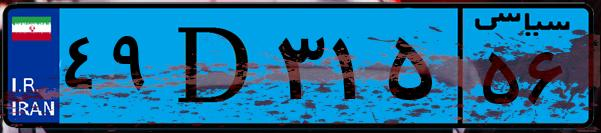1: (330, 28, 385, 110)
3: (270, 28, 330, 110)
4: (57, 26, 110, 100)
5: (385, 28, 445, 110), (475, 38, 525, 113)
6: (525, 38, 570, 115)
9: (110, 28, 158, 98)
D: (158, 12, 270, 120)
